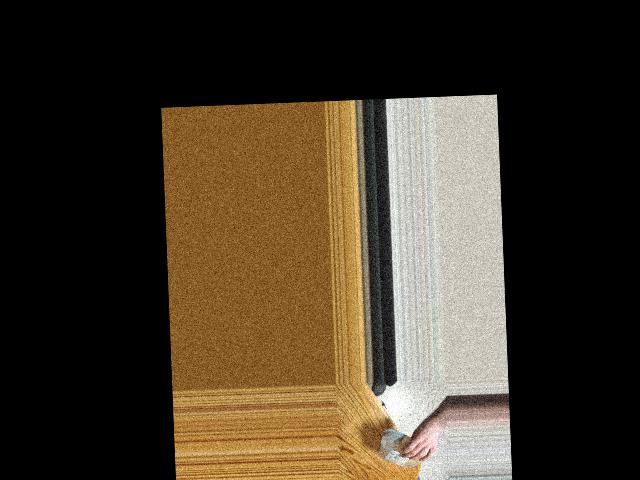cheese: (380, 432, 422, 463)
